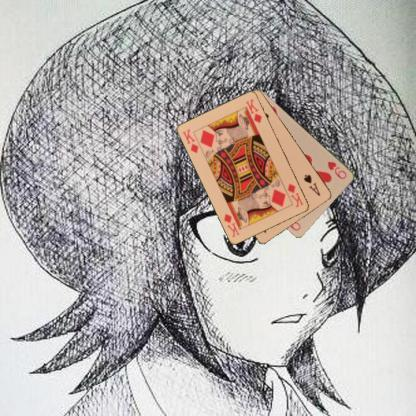9h: (324, 158, 350, 180)
As: (301, 172, 322, 197)
Kd: (285, 180, 305, 209), (180, 127, 200, 154)
